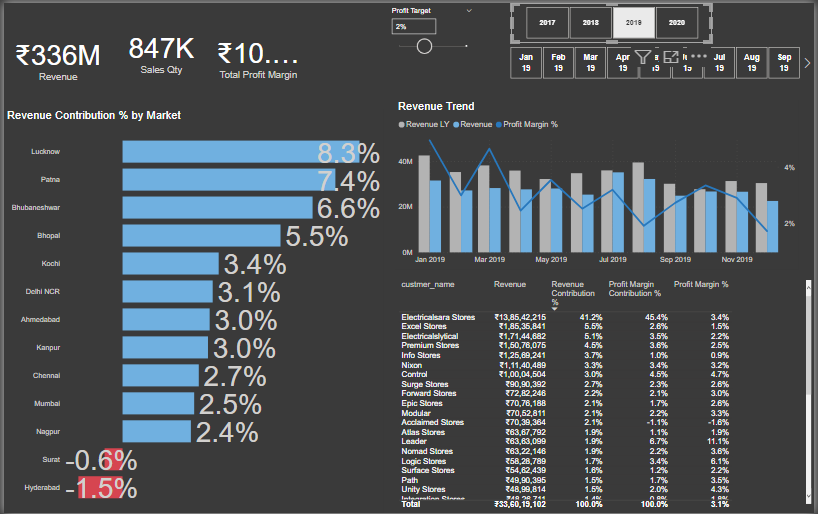

The dashboard page shown, as its layout file describes it:
{"tool":"powerbi","page":{"name":"Profit Analysis","canvas":[1350,850],"ordinal":1},"visuals":[{"type":"card","fields":{"Values":["BaseMeasures (2).Revenue"]},"box":[0,0,179.6,184.8],"z":0},{"type":"card","fields":{"Values":["BaseMeasures (2).Sales Qty"]},"box":[179.6,0,164.1,193],"z":1000},{"type":"barChart","title":"Profit % by market","fields":{"Y":["BaseMeasures (2).Profit Margin %"],"Category":["sales markets.markets_name"]},"box":[464.5,184.8,230.2,664.8],"z":2000},{"type":"barChart","title":"Profit Contribution % by Market","fields":{"Y":["BaseMeasures (2).Profit Margin Contribution %"],"Category":["sales markets.markets_name"]},"box":[221.9,185.8,208.5,659.6],"z":3000},{"type":"slicer","fields":{"Values":["sales date.year"]},"box":[483.2,0,335.5,66.5],"z":4000},{"type":"slicer","fields":{"Values":["sales date.cy_date"]},"box":[818.6,0,531.7,66.5],"z":5000},{"type":"tableEx","title":"Top 5 Customers","fields":{"Values":["sales customers.custmer_name","BaseMeasures (2).Revenue","BaseMeasures (2).Revenue Contribution %","BaseMeasures (2).Profit Margin Contribution %","BaseMeasures (2).Profit Margin %"]},"box":[701.9,454.2,648.3,395.4],"z":6000},{"type":"lineChart","title":"Revenue Trend","fields":{"Y":["BaseMeasures (2).Revenue"],"Category":["sales date.cy_date"]},"box":[701.9,104.3,621.4,338.6],"z":7000},{"type":"card","fields":{"Values":["BaseMeasures (2).Total Profit Margin"]},"box":[349.9,0,161,176.5],"z":8000},{"type":"barChart","title":"Revenue Contribution % by Market","fields":{"Y":["BaseMeasures (2).Revenue Contribution %"],"Category":["sales markets.markets_name"]},"box":[0,185.8,219.9,654.5],"z":9000}]}

Visuals, with their boxes in screenshot pixels (x1, y1, x2, y2), scaled from the page's 1350x850 canvas onto the 818x514 screenshot:
card - BaseMeasures (2).Revenue: {"left": 0, "top": 0, "right": 109, "bottom": 112}
card - BaseMeasures (2).Sales Qty: {"left": 109, "top": 0, "right": 208, "bottom": 117}
"Profit % by market" barChart: {"left": 281, "top": 112, "right": 421, "bottom": 513}
"Profit Contribution % by Market" barChart: {"left": 134, "top": 112, "right": 261, "bottom": 511}
slicer - sales date.year: {"left": 293, "top": 0, "right": 496, "bottom": 40}
slicer - sales date.cy_date: {"left": 496, "top": 0, "right": 817, "bottom": 40}
"Top 5 Customers" tableEx: {"left": 425, "top": 275, "right": 817, "bottom": 513}
"Revenue Trend" lineChart: {"left": 425, "top": 63, "right": 802, "bottom": 268}
card - BaseMeasures (2).Total Profit Margin: {"left": 212, "top": 0, "right": 310, "bottom": 107}
"Revenue Contribution % by Market" barChart: {"left": 0, "top": 112, "right": 133, "bottom": 508}
